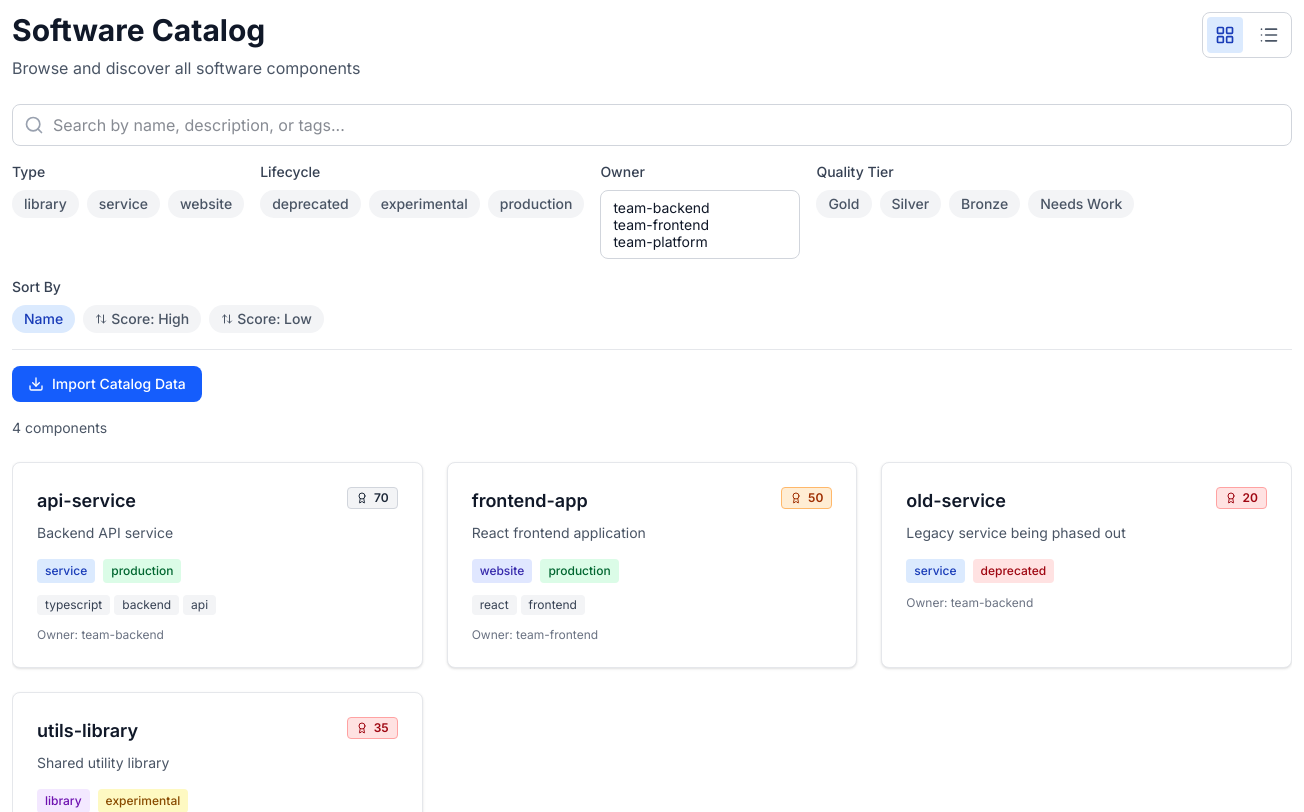
it: CatalogPage › Type Filtering › filters by library type
This screenshot has width=1304, height=812.
Click the button "library" at (45, 204), box [12,190,79,218]
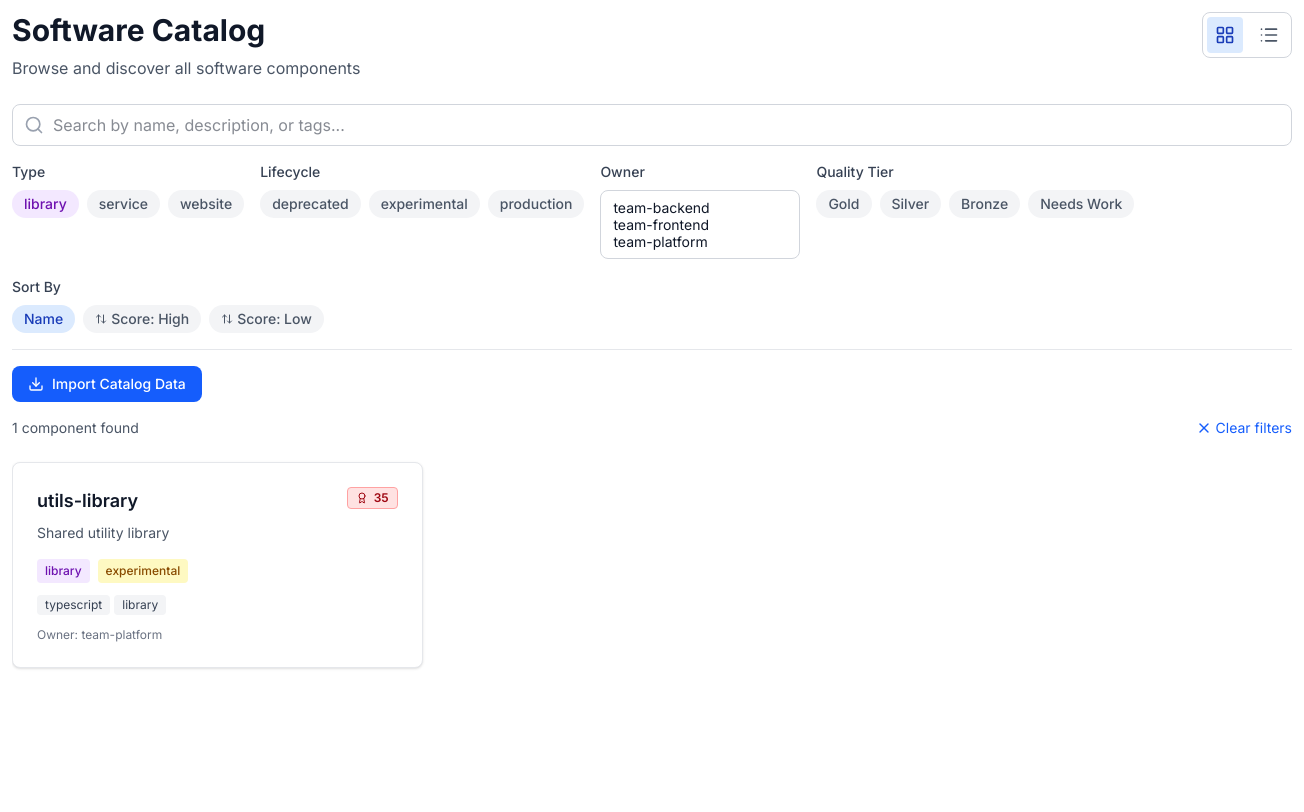
expect the heading "utils-library" is shown: met, box [37,487,138,515]
expect the link "api-service" is gone: met
